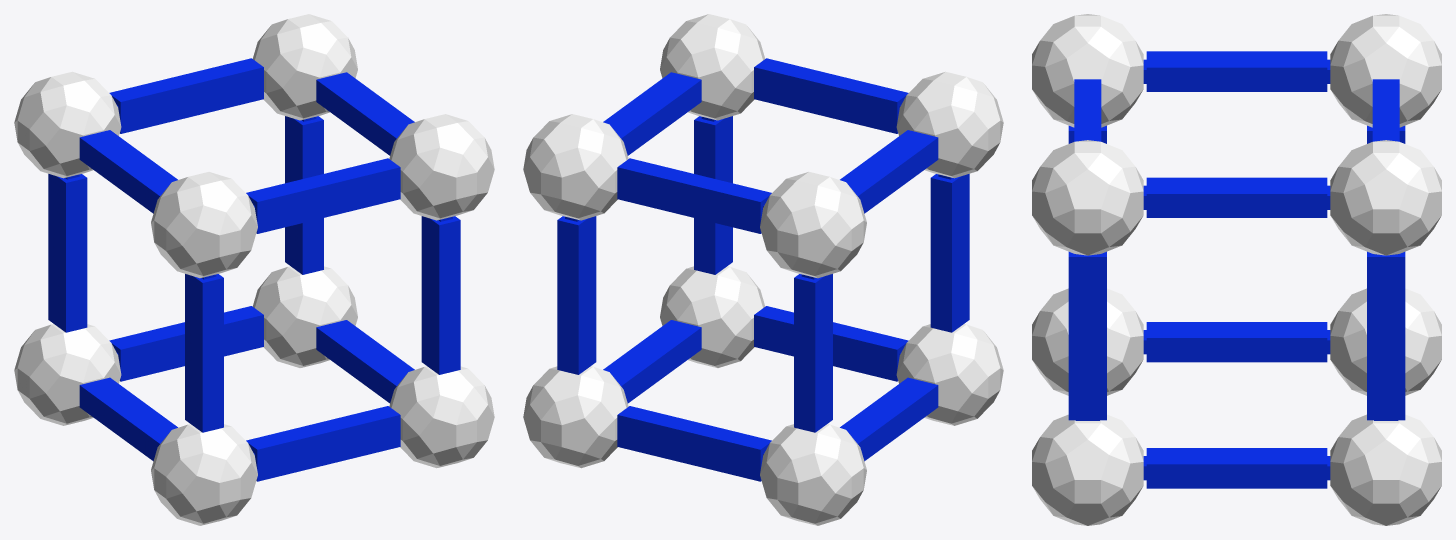
The model's file is zomecube (blue small).obj.
3 views of the same model, side by side, from view 1: azimuth 30°, elevation 25°; view 2: azimuth 150°, elevation 25°; view 3: azimuth 270°, elevation 25° (orthographic). The views are drawn at different scales.
Bounding box in the file's own units: 65 × 65 × 65.
